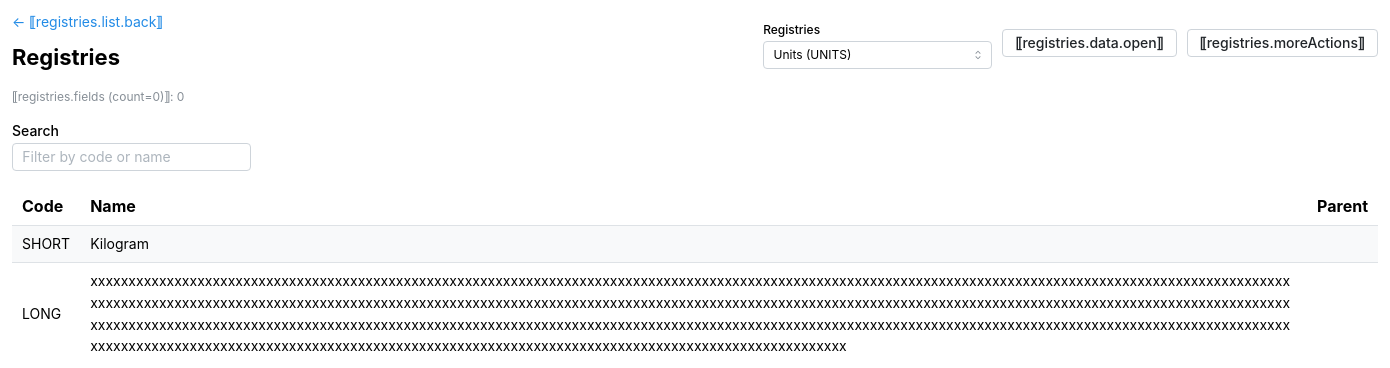
RegistriesPage: записи довідника (аудит-пас 8, lane4, п.5 і п.6) › п.6: пошук без збігів показує пояснення, а не порожню таблицю
Expected: the text "Kilogram" is shown, [90,236,149,252]
Type "no-such-entry-anywhere" into the field labelled "Search".
click(131, 157); type("no-such-entry-anywhere")  # box [12,143,251,171]
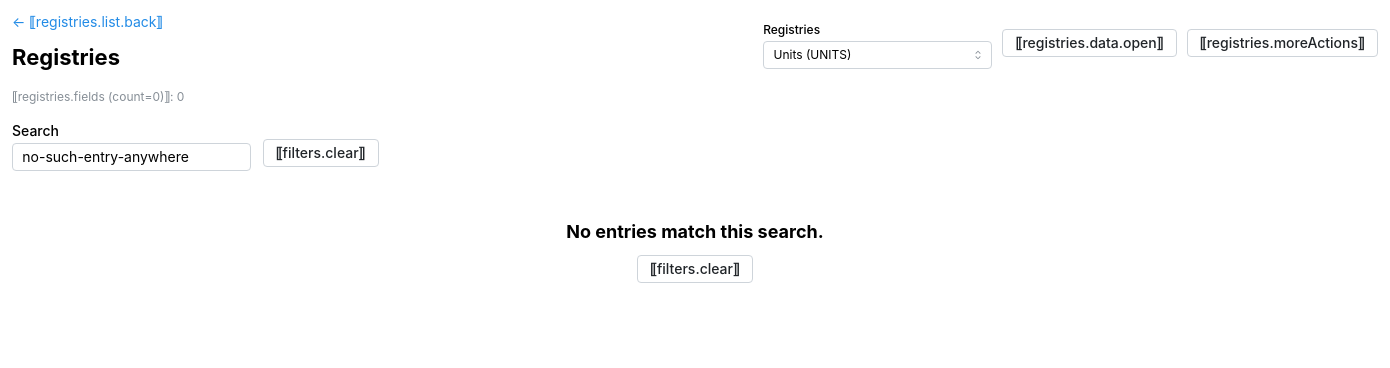
Expected: the heading "No entries match this search." is shown, [566,219,824,245]
Expected: the text "Kilogram" is gone
